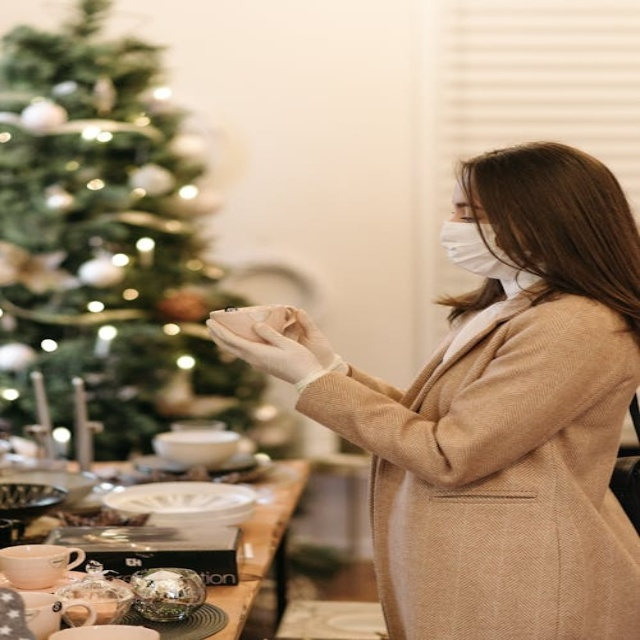Guantes: (206, 304, 337, 386)
Mascara: (441, 217, 541, 284)
Sin_gafas: (448, 195, 492, 226)
